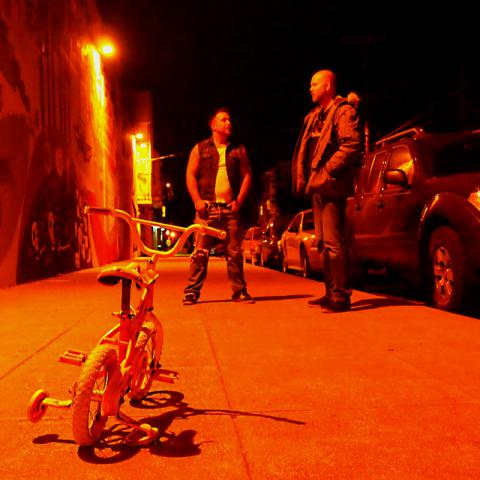car: (345, 128, 479, 314), (280, 206, 322, 280), (260, 215, 294, 269), (241, 225, 268, 264), (215, 239, 224, 257)
